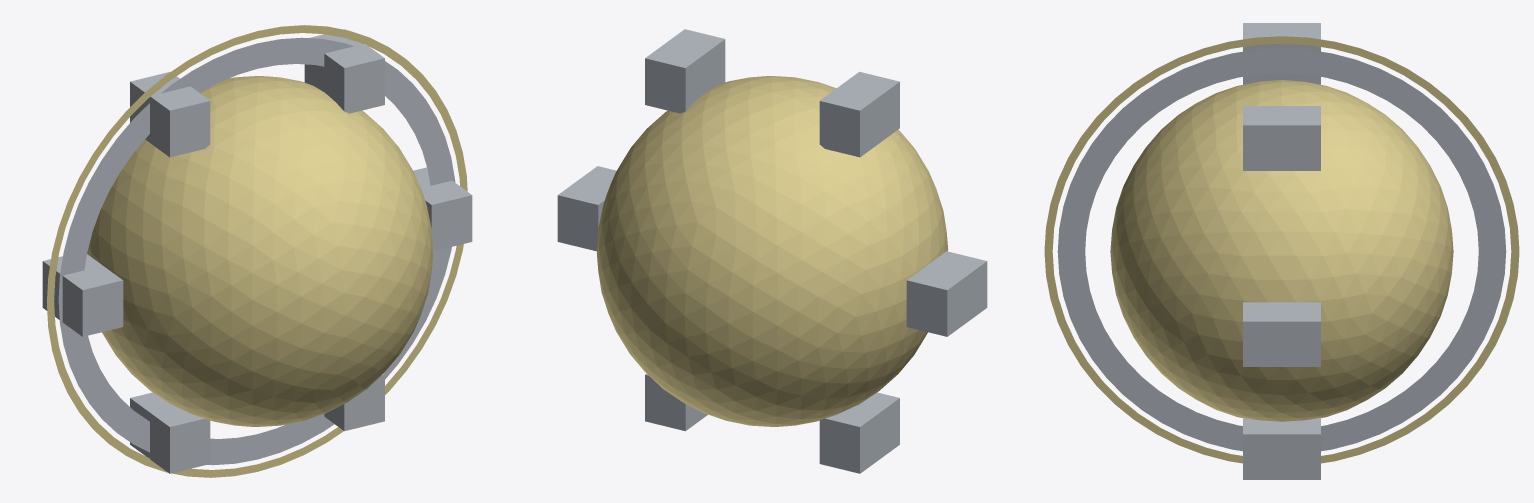
File: vsh-5.glb
3 renders of one model, left to right at view 1: azimuth 30°, elevation 25°; view 2: azimuth 150°, elevation 25°; view 3: azimuth 270°, elevation 25°, orthographic. The views are drawn at different scales.
Visible parts, largest first — view 1: part000, part006, part007, part011, part010, part009, part012, part008, part013; view 2: part000, part011, part010, part009, part012, part008, part013; view 3: part000, part002, part003, part008, part009, part013, part010.
Boxes of the visible parts, x1,y1,x2,y2 form: part000: (87, 76, 433, 426); part006: (58, 37, 455, 465); part007: (47, 25, 467, 477); part011: (42, 254, 123, 336); part010: (130, 71, 210, 157); part009: (304, 29, 384, 113); part012: (130, 392, 210, 473); part008: (413, 167, 472, 251); part013: (324, 373, 384, 431); part000: (596, 76, 948, 426); part011: (906, 251, 987, 336); part010: (819, 71, 899, 157); part009: (645, 29, 725, 113); part012: (819, 392, 899, 473); part008: (557, 166, 616, 251); part013: (645, 373, 707, 431); part000: (1110, 80, 1453, 421); part002: (1057, 48, 1506, 451); part003: (1044, 36, 1519, 463); part008: (1243, 302, 1320, 366); part009: (1243, 106, 1320, 170); part013: (1243, 417, 1320, 479); part010: (1243, 23, 1320, 84).
Size of the model in its own units: 2.08 by 2.08 by 2.08.
